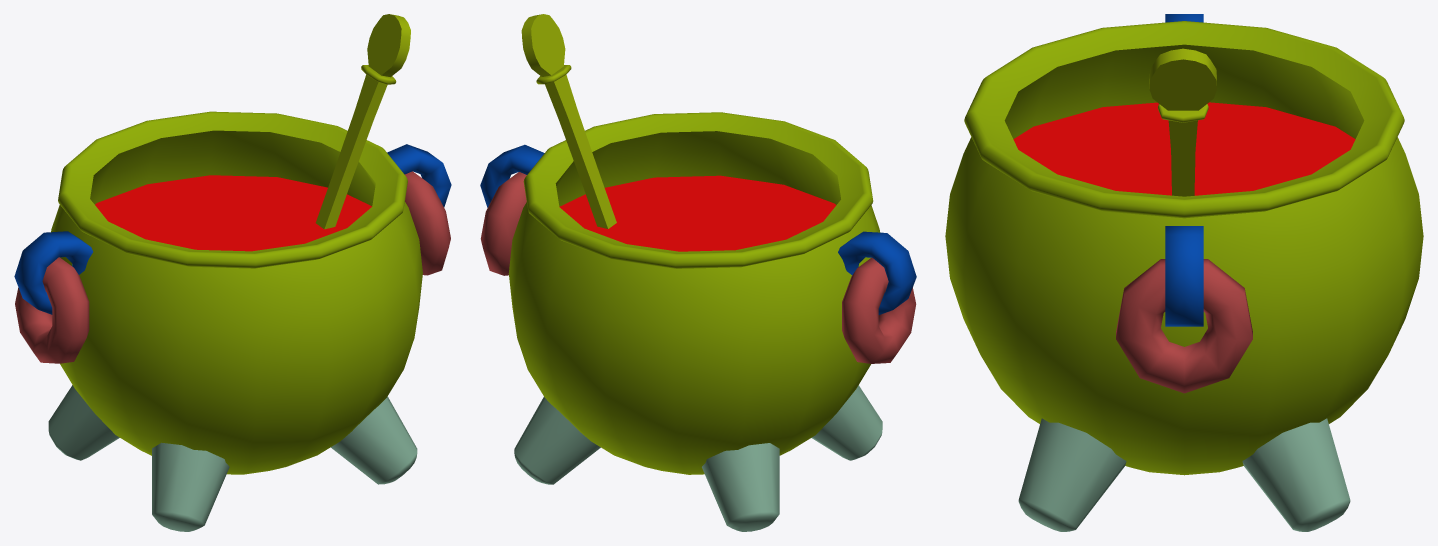
File: Cauldron_Stir.fbx
3 views of the same model, side by side, from view 1: azimuth 30°, elevation 25°; view 2: azimuth 150°, elevation 25°; view 3: azimuth 270°, elevation 25° (orthographic). The views are drawn at different scales.
Parts seen in each view (by area): view 1: c_base, c_liquid, c_legs, c_spoon, c_hoop_right, c_handle_right, c_hoop_left, c_handle_left; view 2: c_base, c_liquid, c_legs, c_spoon, c_hoop_right, c_handle_right, c_hoop_left, c_handle_left; view 3: c_base, c_liquid, c_legs, c_hoop_left, c_spoon, c_handle_left.
Part boxes in pixels (x1,y1,x2,y2): c_base: (51, 111, 422, 474); c_liquid: (95, 175, 371, 251); c_legs: (48, 385, 417, 531); c_spoon: (315, 14, 410, 229); c_hoop_right: (15, 257, 89, 363); c_handle_right: (14, 231, 93, 314); c_hoop_left: (405, 171, 450, 275); c_handle_left: (387, 144, 451, 207); c_base: (508, 112, 880, 474); c_liquid: (559, 175, 836, 251); c_legs: (514, 385, 882, 531); c_spoon: (521, 14, 616, 228); c_hoop_right: (842, 257, 916, 363); c_handle_right: (838, 231, 916, 314); c_hoop_left: (480, 172, 526, 275); c_handle_left: (480, 144, 544, 207); c_base: (945, 21, 1423, 475); c_liquid: (1013, 102, 1355, 195); c_legs: (1018, 418, 1350, 531); c_hoop_left: (1116, 259, 1252, 393); c_spoon: (1149, 48, 1216, 196); c_handle_left: (1165, 226, 1203, 326).
Size of the model in its own units: 7.06 by 6.63 by 5.56.
